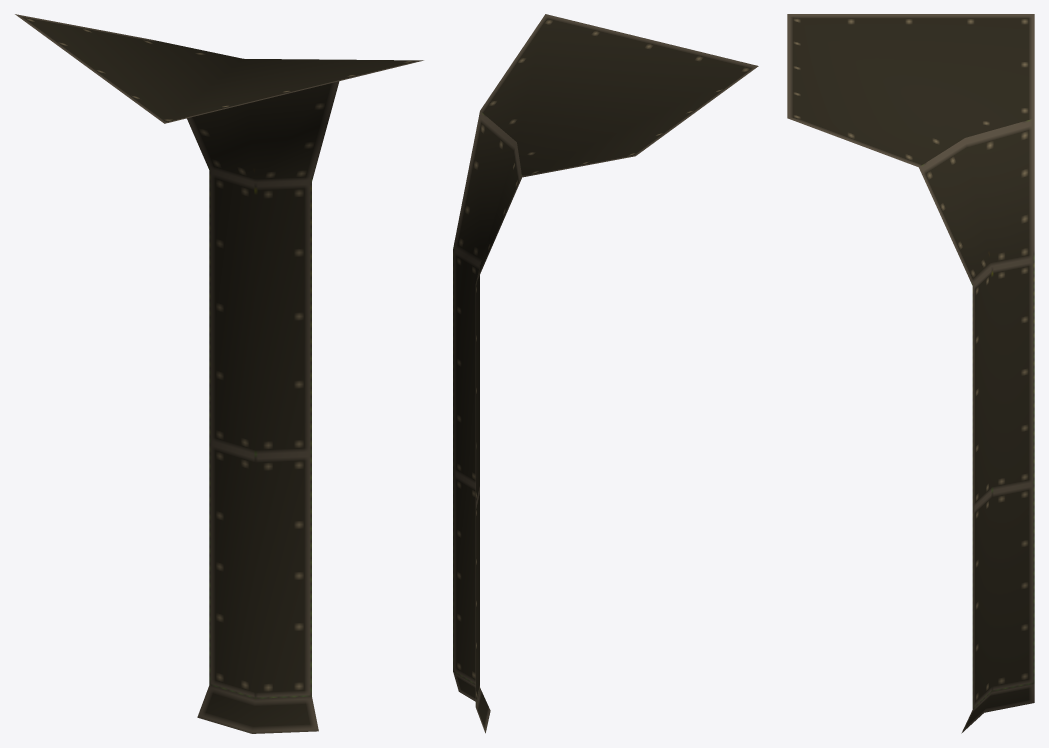
Rendered from SmallCorner1.fbx.
3 views of the same model, side by side, from view 1: azimuth 30°, elevation 25°; view 2: azimuth 150°, elevation 25°; view 3: azimuth 270°, elevation 25° (orthographic). The views are drawn at different scales.
Visible parts, largest first — view 1: SmallCorner.001; view 2: SmallCorner.001; view 3: SmallCorner.001.
Boxes of the visible parts, <box> form: SmallCorner.001: <box>15,14,423,733</box>; SmallCorner.001: <box>453,14,758,733</box>; SmallCorner.001: <box>787,14,1034,733</box>.
Size of the model in its own units: 200 by 550 by 200.
